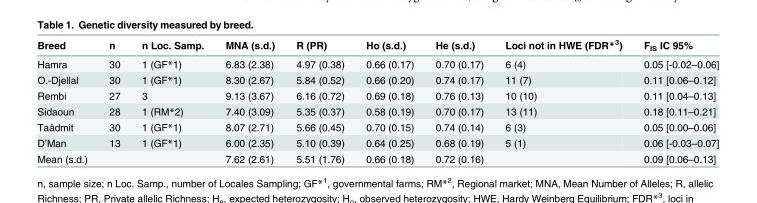table: (36, 37, 718, 164)
table column: (493, 37, 632, 164), (632, 37, 718, 164), (130, 37, 213, 164), (213, 37, 284, 164), (284, 37, 354, 164), (354, 37, 424, 164), (424, 37, 493, 164), (36, 37, 97, 164), (97, 37, 130, 164)
table column header: (36, 37, 718, 54)
table row: (36, 37, 718, 54), (36, 54, 718, 71), (36, 71, 718, 87), (36, 87, 718, 103), (36, 118, 718, 134), (36, 134, 718, 150), (36, 103, 718, 118), (36, 150, 718, 164)
